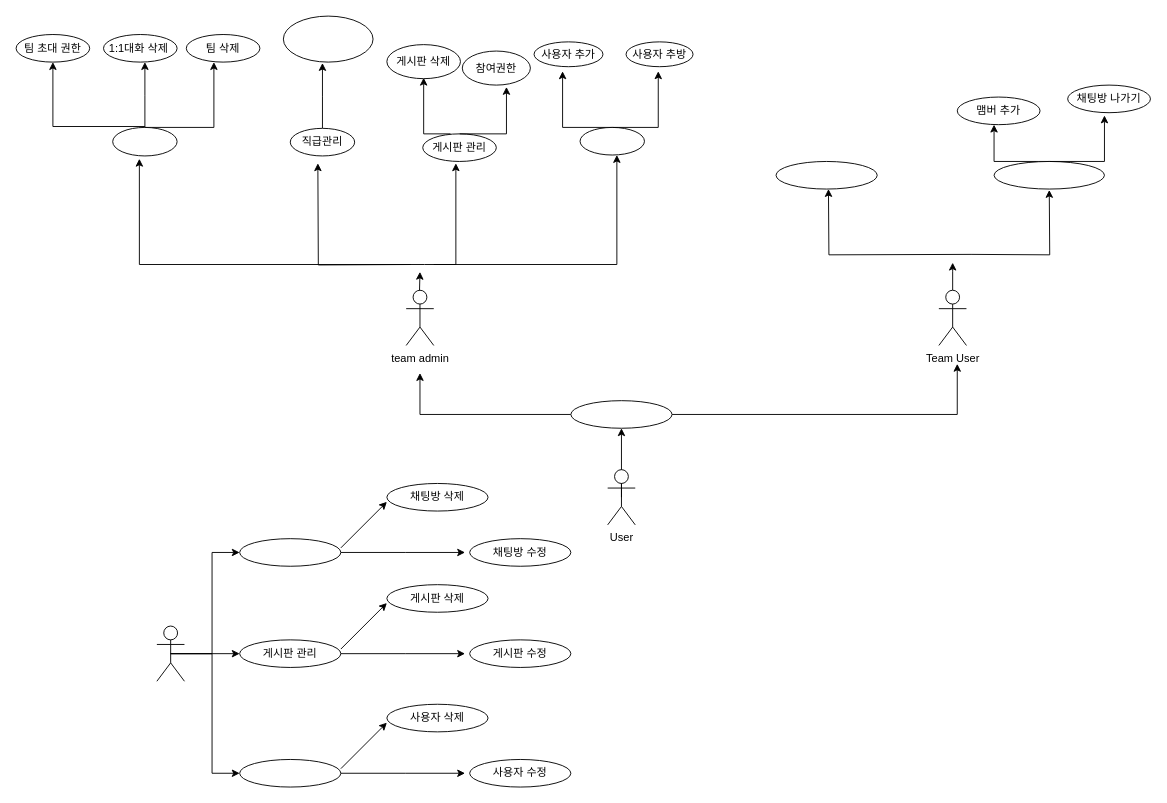
This 1167x803 diagram has some shape labels left out. The shapes that lost their labels are listed below. From the top down, each one's box as (x1, y1, x2, y2) in pixels, then its label:
(282, 15, 373, 62): 생성한 방의 사용자 직급 수정
(112, 126, 177, 156): 팀 관리
(579, 126, 644, 155): 사용자관리
(775, 161, 877, 189): 토픽생성
(993, 161, 1104, 189): 채팅시작
(570, 400, 672, 428): 팀 생성
(239, 538, 341, 566): 채팅 관리
(156, 625, 184, 681): admin
(239, 759, 341, 787): 사용자 관리
